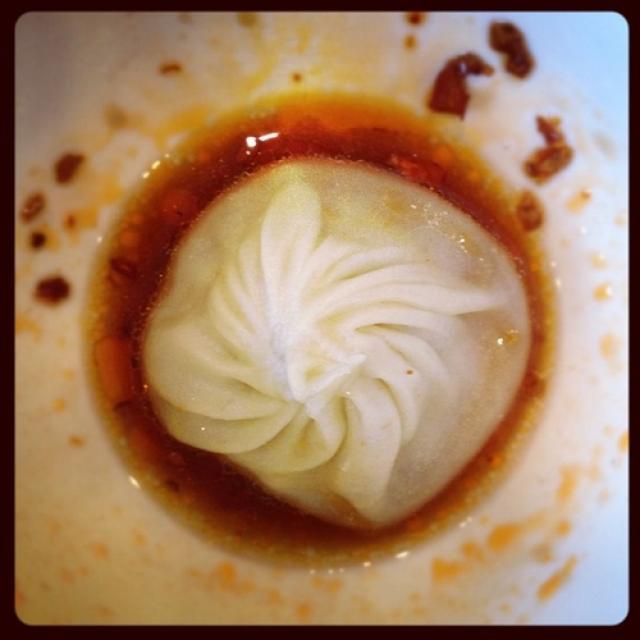带馅早点: (45, 48, 576, 602)
